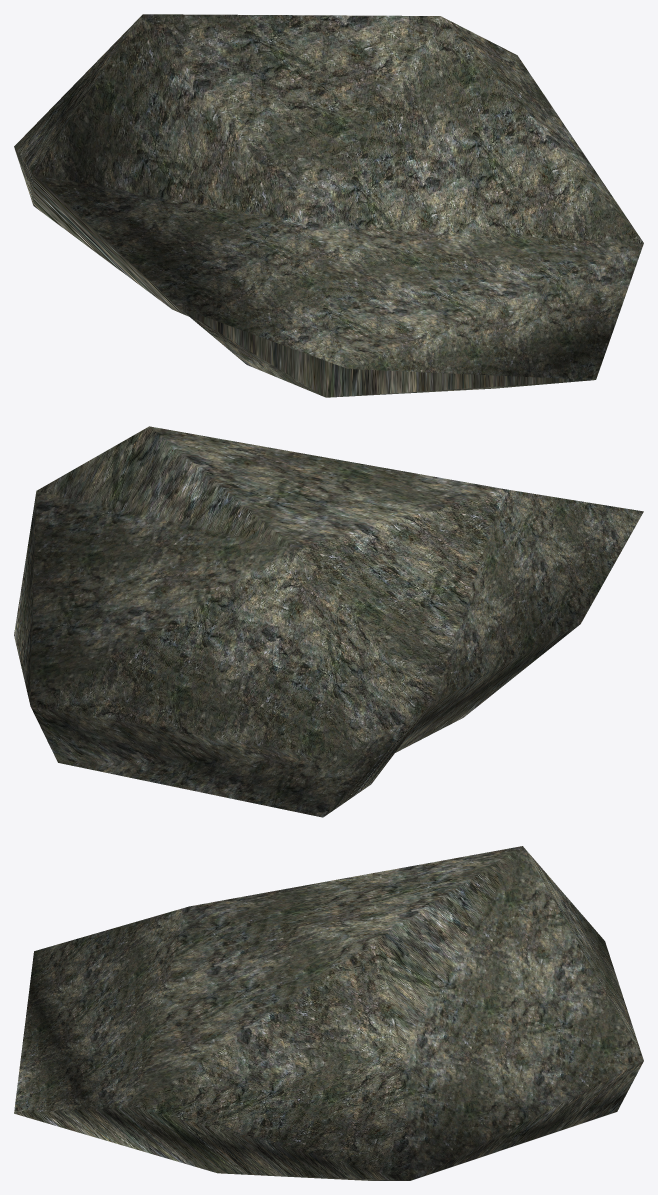
Rendered from mtns_rock_grey_a11_l2.fbx.
3 renders of one model, top to bottom at view 1: azimuth 30°, elevation 25°; view 2: azimuth 150°, elevation 25°; view 3: azimuth 270°, elevation 25°, orthographic. The views are drawn at different scales.
Parts seen in each view (by area): view 1: mesh_node; view 2: mesh_node; view 3: mesh_node.
Part boxes in pixels (<box>): mesh_node: <box>14,14,643,397</box>; mesh_node: <box>14,426,643,817</box>; mesh_node: <box>14,846,643,1180</box>.
Size of the model in its own units: 1.57 by 0.8756 by 2.09.
1 material, 1 textured.
